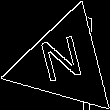N_S: (38, 34, 90, 92)
